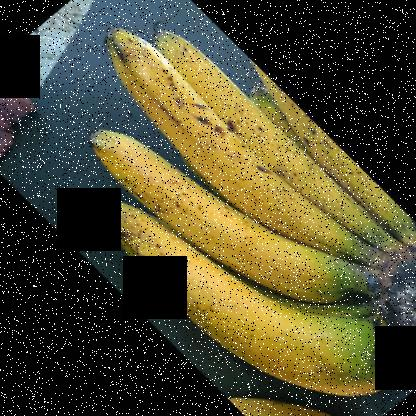ripe: (97, 220, 398, 413), (100, 28, 352, 248), (93, 130, 378, 292)
